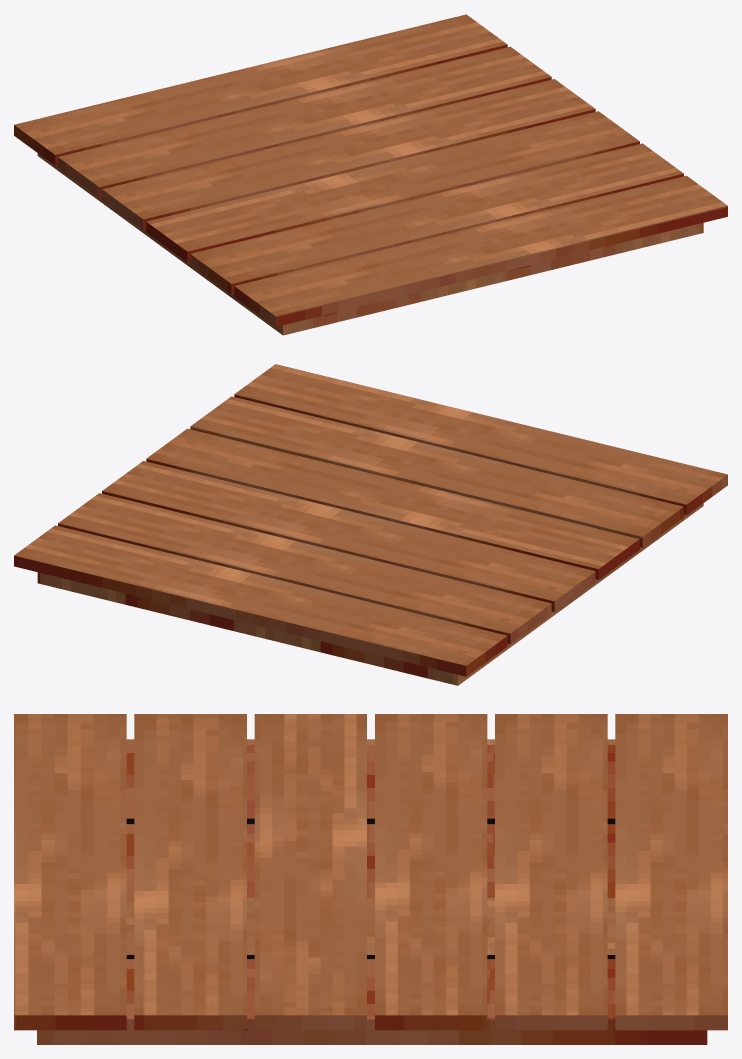
Rendered from fencefloor.glb.
3 views of the same model, one above another, from view 1: azimuth 30°, elevation 25°; view 2: azimuth 150°, elevation 25°; view 3: azimuth 270°, elevation 25° (orthographic). The views are drawn at different scales.
Parts seen in each view (by area): view 1: Cube.003, Cube.001; view 2: Cube.003, Cube.001; view 3: Cube.003, Cube.001.
Part boxes in pixels (x1=…): Cube.003: x1=14, y1=14, x2=727, y2=326; Cube.001: x1=37, y1=153, x2=703, y2=335; Cube.003: x1=14, y1=364, x2=727, y2=676; Cube.001: x1=37, y1=503, x2=703, y2=685; Cube.003: x1=14, y1=714, x2=727, y2=1030; Cube.001: x1=37, y1=739, x2=707, y2=1044.
Size of the model in its own units: 13.61 by 0.8454 by 13.63.
Materials: 2 (2 with a texture image).
